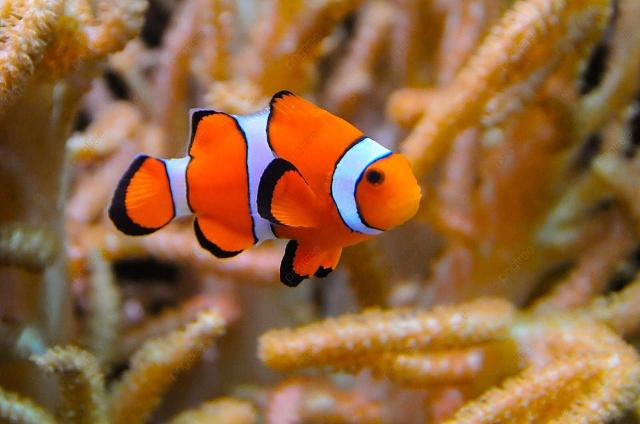Mulut: (364, 174, 440, 220)
Sirip Anal: (192, 208, 258, 274)
Sirip Dada: (240, 140, 332, 238)
Sirip Ekor: (98, 146, 184, 262)
Sirip Perut: (269, 231, 355, 293)
Sirip Punggung: (177, 80, 341, 156)
